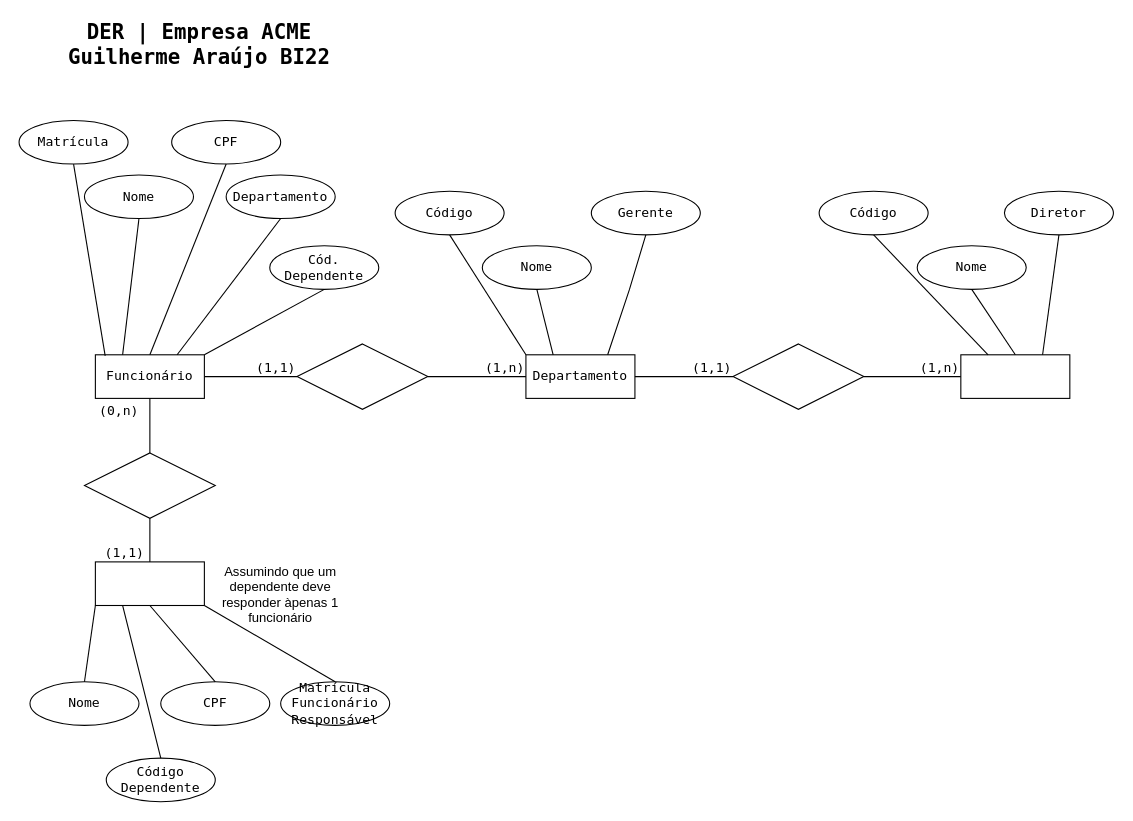
The diagram is 1133 pixels wide and 821 high, and some of its shapes have lost their labels. Here are the shapes that lost their labels. From the top down, the centre of each, then its label:
At point (362, 376): "Lotado".
At point (798, 376): "Dirigido".
At point (1015, 376): "Diretoria".
At point (149, 485): "Possui".
At point (149, 583): "Dependentes".
